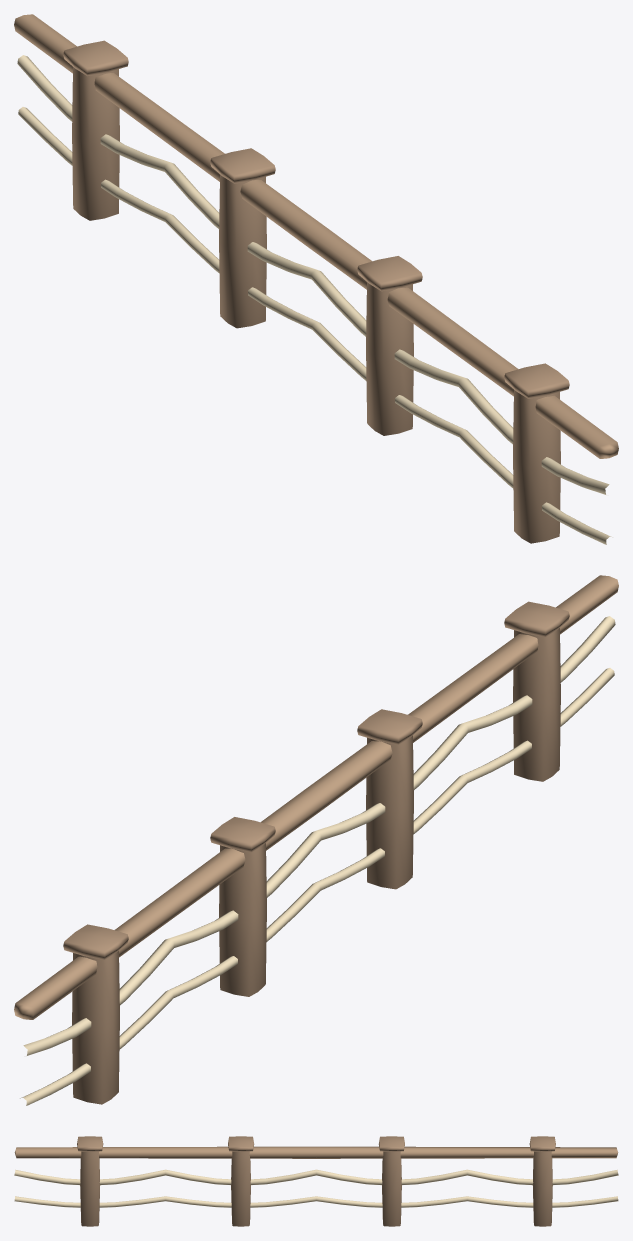
File: SkateRail.glb
3 renders of one model, top to bottom at view 1: azimuth 30°, elevation 25°; view 2: azimuth 150°, elevation 25°; view 3: azimuth 270°, elevation 25°, orthographic. The views are drawn at different scales.
Visible parts, largest first — view 1: Posts, Rail, Rope; view 2: Posts, Rail, Rope; view 3: Posts, Rope, Rail.
Part boxes in pixels (left/top/right/bottom): Posts: left=63, top=40, right=569, bottom=543; Rail: left=14, top=14, right=618, bottom=458; Rope: left=17, top=55, right=612, bottom=544; Posts: left=63, top=601, right=569, bottom=1104; Rail: left=14, top=575, right=618, bottom=1019; Rope: left=20, top=616, right=615, bottom=1105; Posts: left=77, top=1136, right=555, bottom=1226; Rope: left=14, top=1169, right=618, bottom=1207; Rail: left=14, top=1146, right=618, bottom=1158.
Bounding box in the file's own units: 1.05 × 3.65 × 24.06.
